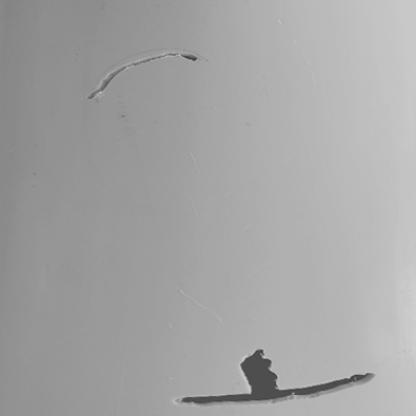fengxi: (181, 373, 376, 402), (87, 52, 202, 98)
kongdong: (237, 347, 288, 391)
